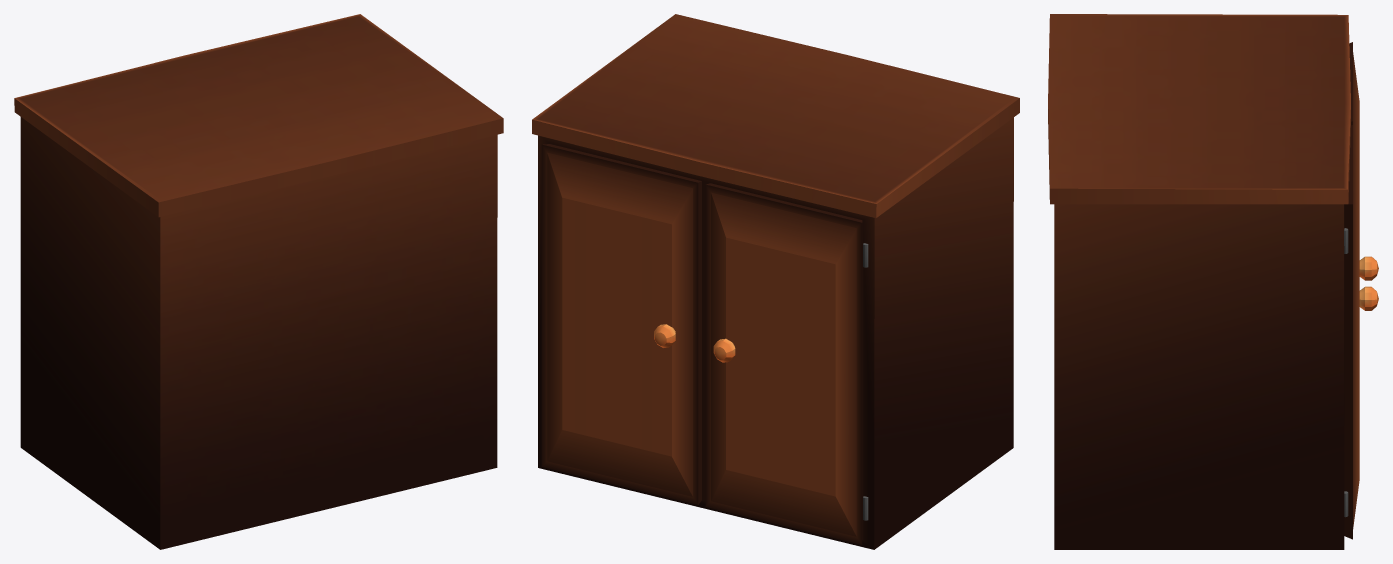
File: counter upper.FBX
3 renders of one model, left to right at view 1: azimuth 30°, elevation 25°; view 2: azimuth 150°, elevation 25°; view 3: azimuth 270°, elevation 25°, orthographic. The views are drawn at different scales.
Visible parts, largest first — view 1: counter upper; view 2: counter upper; view 3: counter upper.
Boxes of the visible parts, x1,y1,x2,y2 form: counter upper: (14,14,503,549); counter upper: (532,14,1019,549); counter upper: (1048,14,1378,549).
Bounding box in the file's own units: 71.27 × 68.98 × 56.94.
Materials: 1 (1 with a texture image).
